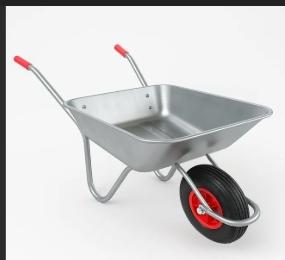BROUETTE: (0, 44, 282, 260)
